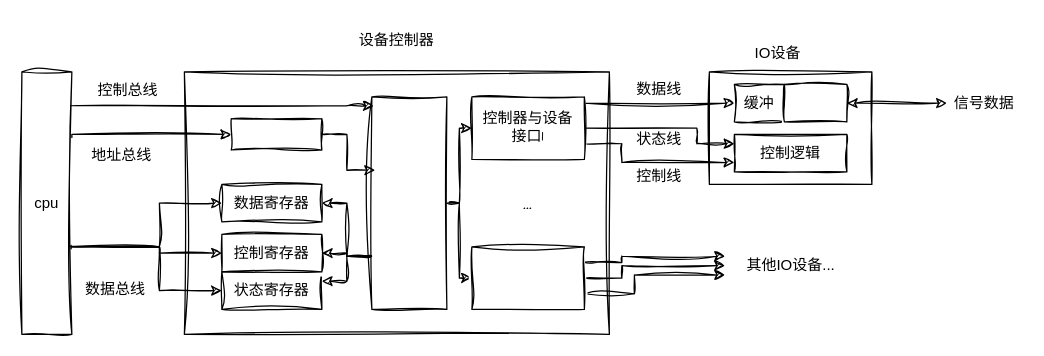
Some shapes in this 1044 by 356 pixel diagram are drawn without their labels. The shapes that lost their labels are listed below. From the top down, each one's box as (x1, y1, x2, y2) in pixels, then its label:
(783, 83, 847, 122): 转换器
(230, 118, 322, 150): 地址译码
(371, 96, 447, 309): IO逻辑
(471, 246, 584, 309): 控制器与设备 接口n
